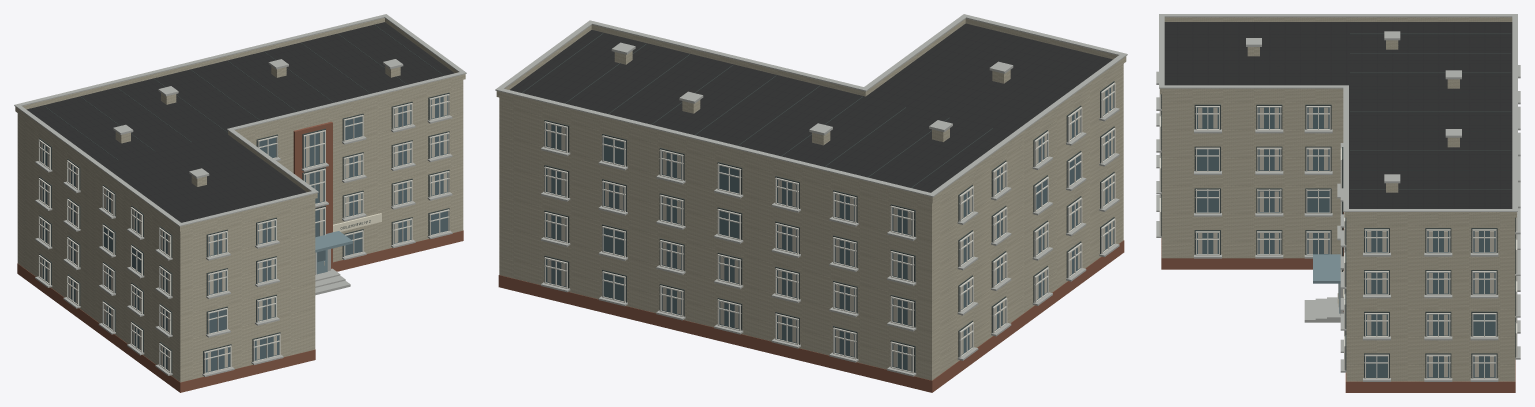
The model's file is dormitory.glb.
3 views of the same model, side by side, from view 1: azimuth 30°, elevation 25°; view 2: azimuth 150°, elevation 25°; view 3: azimuth 270°, elevation 25° (orthographic). The views are drawn at different scales.
Visible parts, largest first — view 1: Dormitory_30x23m_4storeys; view 2: Dormitory_30x23m_4storeys; view 3: Dormitory_30x23m_4storeys.
Boxes of the visible parts, x1,y1,x2,y2 form: Dormitory_30x23m_4storeys: [14, 14, 466, 392]; Dormitory_30x23m_4storeys: [495, 14, 1127, 392]; Dormitory_30x23m_4storeys: [1156, 14, 1520, 392].
Size of the model in its own units: 30.72 by 13.57 by 23.72.
10 materials, 2 textured.
